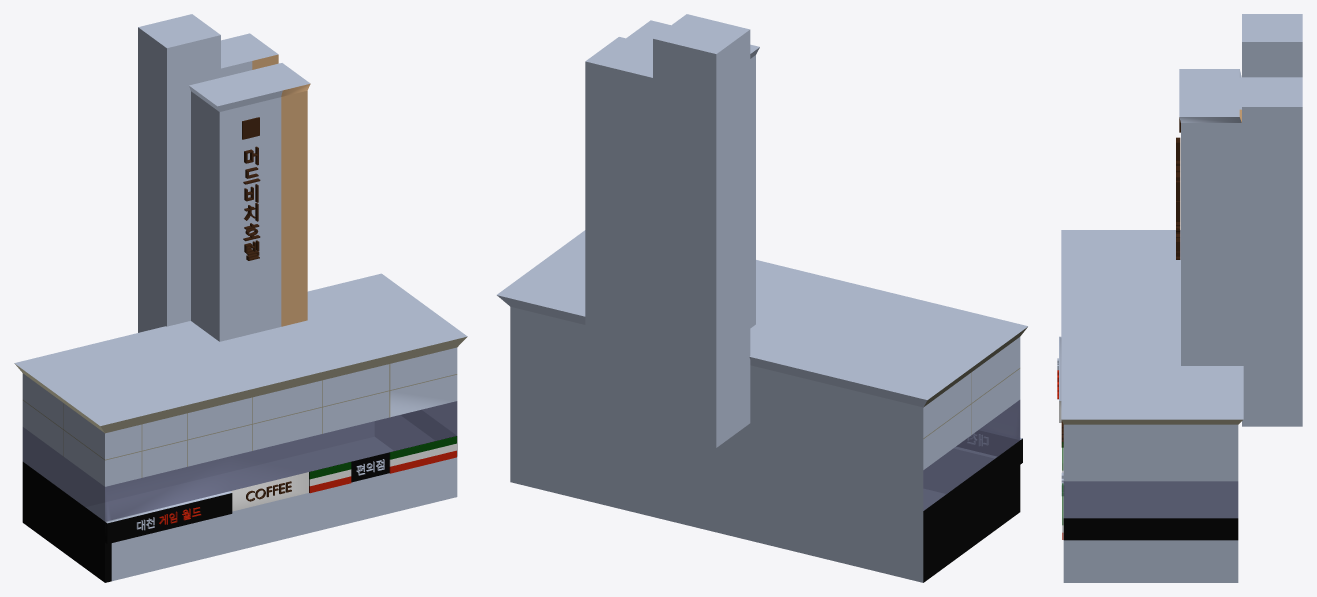
The model's file is MS_Building07.fbx.
The picture shows the model from 3 angles, left to right: view 1: azimuth 30°, elevation 25°; view 2: azimuth 150°, elevation 25°; view 3: azimuth 270°, elevation 25°; orthographic projection. The views are drawn at different scales.
Parts seen in each view (by area): view 1: MS_Building07; view 2: MS_Building07; view 3: MS_Building07.
Part boxes in pixels (x1,y1,x2,y2): MS_Building07: [14, 14, 467, 582]; MS_Building07: [497, 14, 1027, 582]; MS_Building07: [1057, 14, 1302, 582].
Size of the model in its own units: 1455 by 796 by 1655.
